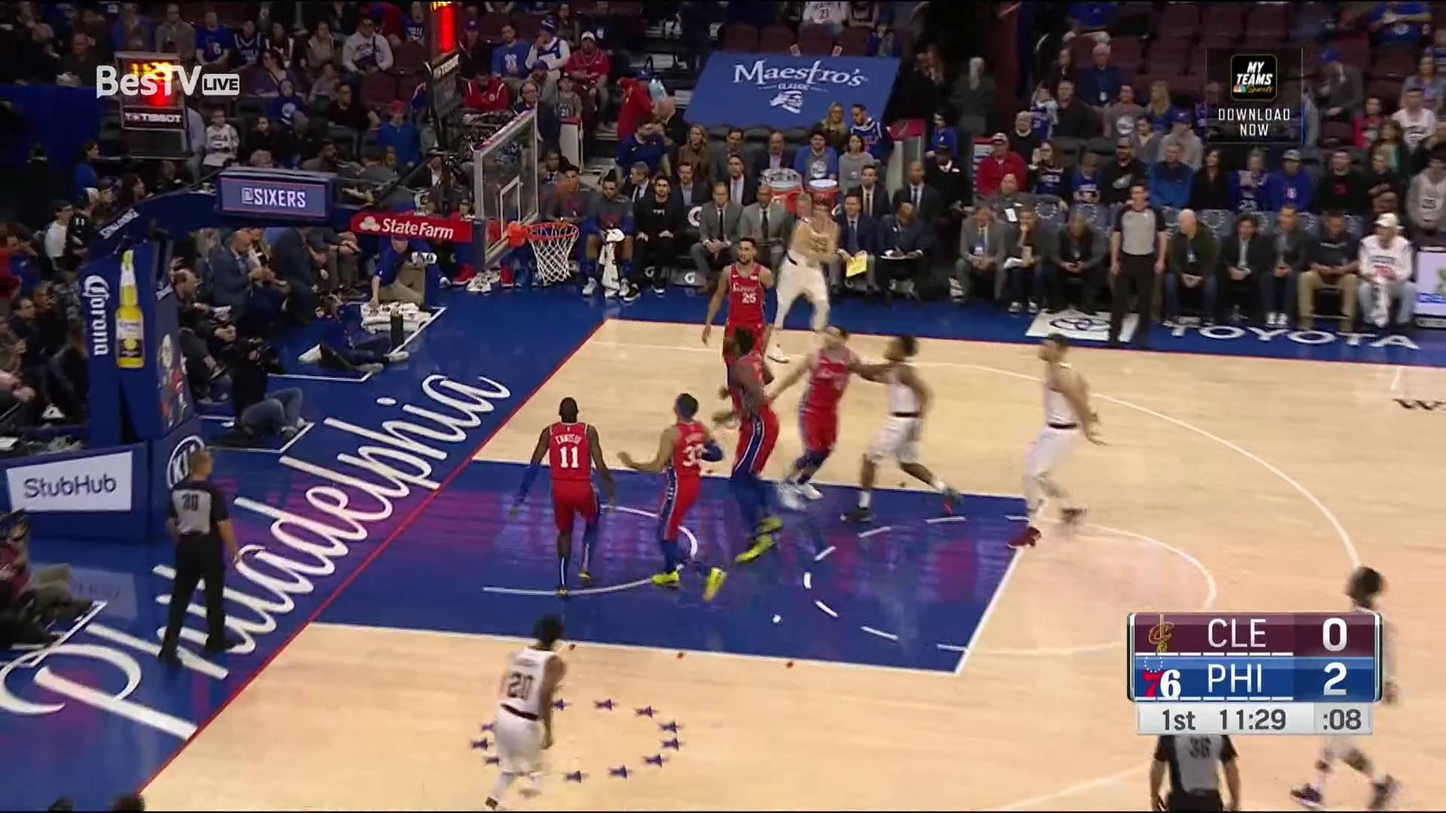basketball: (551, 176, 581, 208)
